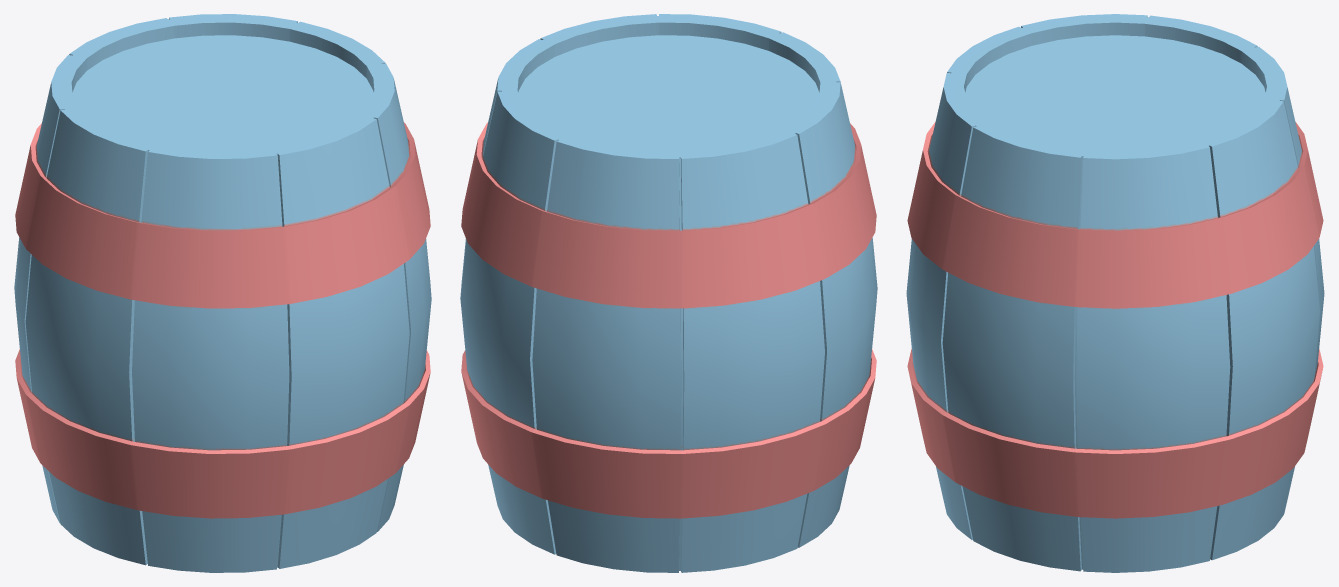
File: barrel.fbx
3 renders of one model, left to right at view 1: azimuth 30°, elevation 25°; view 2: azimuth 150°, elevation 25°; view 3: azimuth 270°, elevation 25°, orthographic.
Parts seen in each view (by area): view 1: Cylinder.001; view 2: Cylinder.001; view 3: Cylinder.001.
Part boxes in pixels (left/top/right/bottom): Cylinder.001: left=14, top=14, right=431, bottom=572; Cylinder.001: left=460, top=14, right=877, bottom=572; Cylinder.001: left=906, top=14, right=1324, bottom=572.
Bounding box in the file's own units: 1.26 × 1.38 × 1.26.
1 material, 1 textured.
